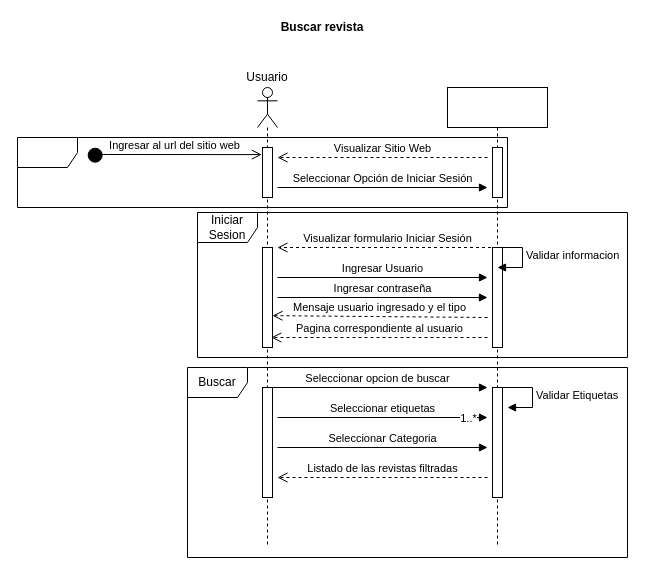
Some shapes in this 645 by 575 pixel diagram are drawn without their labels. Each missing label, with the centre of its shape:
"Ingresar Pagina" belongs at point 262,172.
"Sitio Web" belongs at point 497,317.
